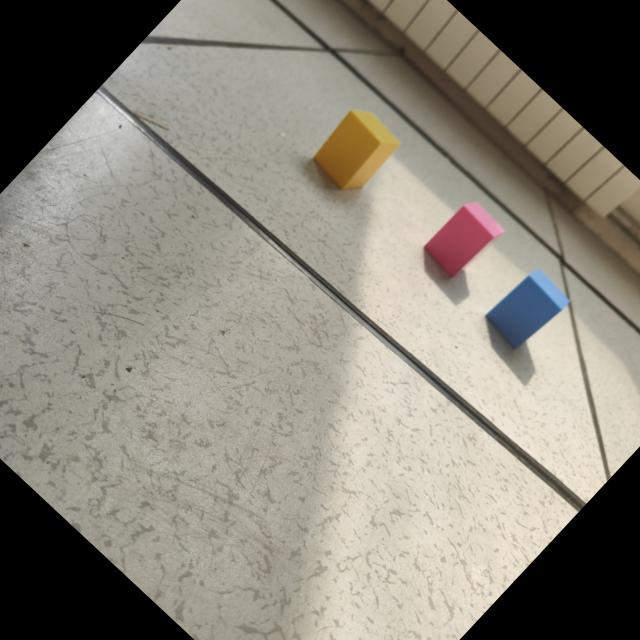blue: (484, 271, 568, 351)
pink: (421, 203, 504, 280)
yellow: (311, 110, 400, 193)
